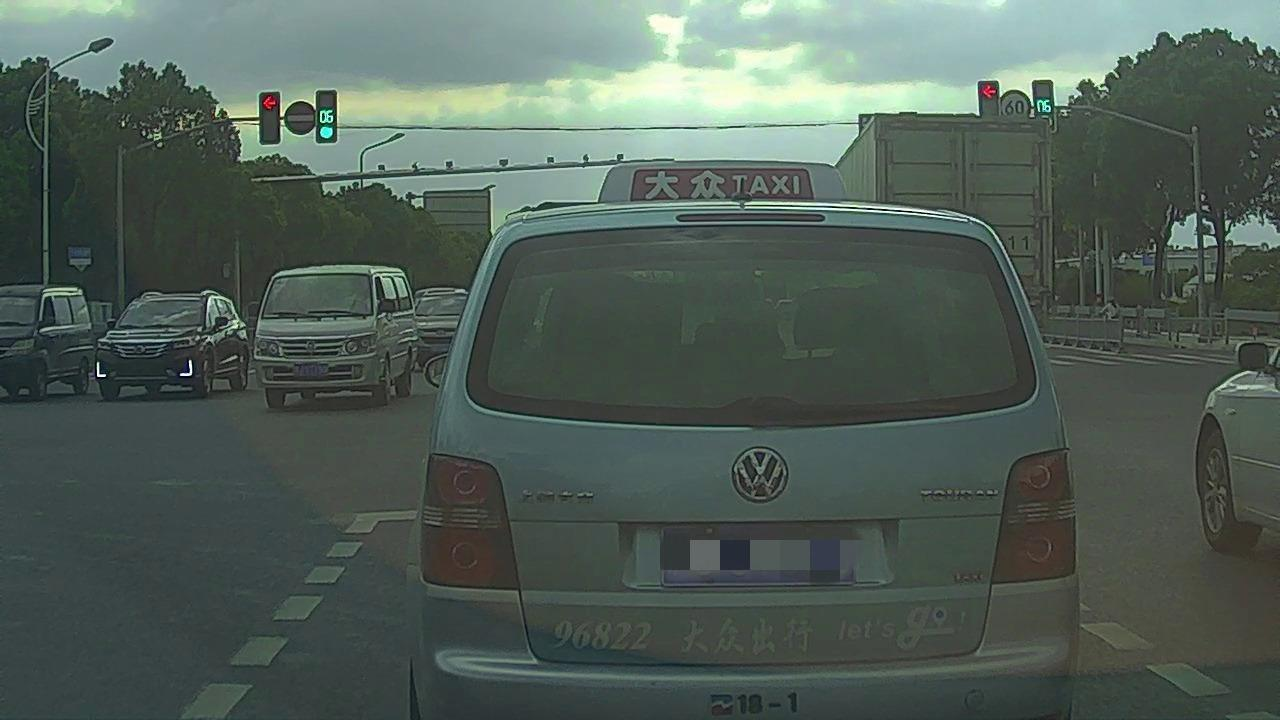traffic_light: (317, 90, 336, 144), (1034, 82, 1055, 130), (260, 93, 279, 142), (979, 83, 1000, 116)
